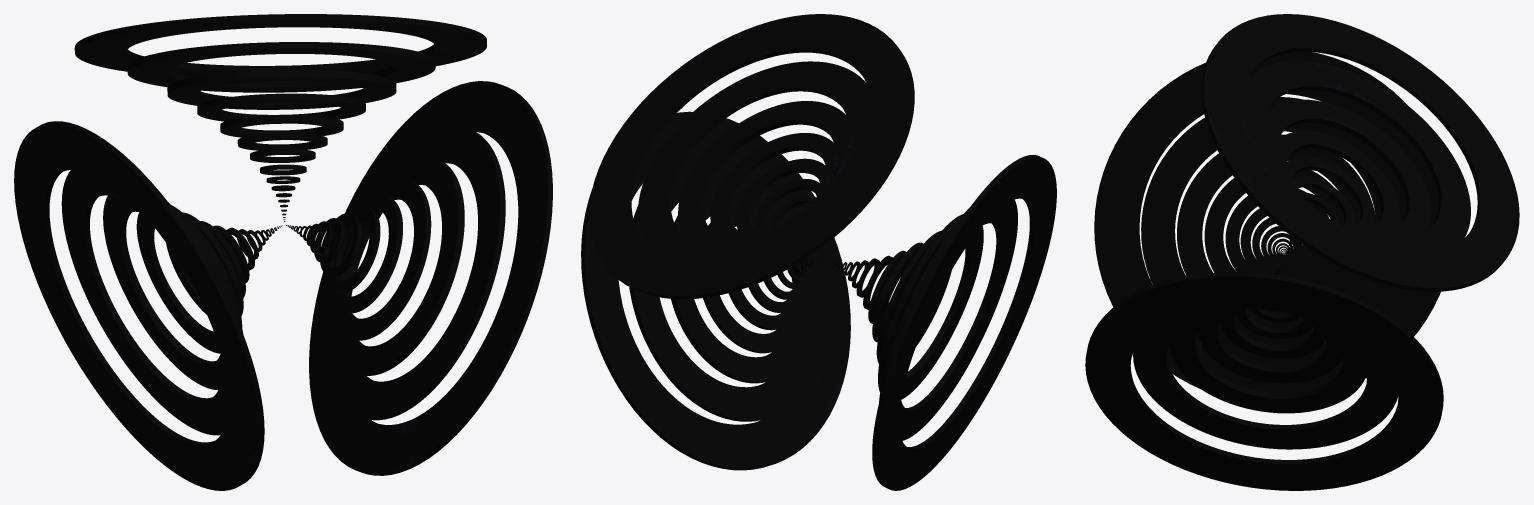
File: BAC.glb
3 views of the same model, side by side, from view 1: azimuth 30°, elevation 25°; view 2: azimuth 150°, elevation 25°; view 3: azimuth 270°, elevation 25° (orthographic). The views are drawn at different scales.
Visible parts, largest first — view 1: mesh_id3915, mesh_id3767, mesh_id3758, mesh_id2133, mesh_id3906, mesh_id3761, mesh_id765, mesh_id3909, mesh_id764, mesh_id3764, mesh_id3912, mesh_id3770 (+9 smaller); view 2: mesh_id2133, mesh_id3767, mesh_id3915, mesh_id765, mesh_id3758, mesh_id764, mesh_id3906, mesh_id3761, mesh_id3909, mesh_id766, mesh_id3764, mesh_id759 (+6 smaller); view 3: mesh_id2133, mesh_id3767, mesh_id3915, mesh_id765, mesh_id3758, mesh_id3906, mesh_id764, mesh_id3761, mesh_id3909, mesh_id766, mesh_id3764, mesh_id3912 (+8 smaller).
Boxes of the visible parts, x1,y1,x2,y2 form: mesh_id3915: [14, 121, 264, 490]; mesh_id3767: [309, 81, 552, 475]; mesh_id3758: [322, 124, 505, 420]; mesh_id2133: [74, 14, 486, 76]; mesh_id3906: [61, 169, 228, 435]; mesh_id3761: [326, 155, 464, 375]; mesh_id765: [127, 42, 435, 92]; mesh_id3909: [103, 195, 243, 389]; mesh_id764: [167, 69, 396, 109]; mesh_id3764: [328, 177, 431, 340]; mesh_id3912: [136, 205, 242, 353]; mesh_id3770: [326, 194, 402, 313]; mesh_id2133: [589, 14, 914, 299]; mesh_id3767: [581, 111, 850, 470]; mesh_id3915: [872, 154, 1056, 490]; mesh_id765: [638, 61, 871, 260]; mesh_id3758: [629, 154, 830, 421]; mesh_id764: [678, 101, 849, 245]; mesh_id3906: [879, 199, 1017, 440]; mesh_id3761: [671, 184, 818, 383]; mesh_id3909: [878, 214, 983, 399]; mesh_id766: [710, 133, 835, 237]; mesh_id3764: [703, 206, 810, 353]; mesh_id759: [735, 158, 826, 233]; mesh_id2133: [1201, 14, 1519, 291]; mesh_id3767: [1085, 272, 1443, 490]; mesh_id3915: [1094, 51, 1440, 393]; mesh_id765: [1243, 60, 1470, 254]; mesh_id3758: [1133, 303, 1398, 449]; mesh_id3906: [1141, 97, 1406, 362]; mesh_id764: [1264, 99, 1431, 239]; mesh_id3761: [1170, 309, 1366, 413]; mesh_id3909: [1177, 134, 1376, 329]; mesh_id766: [1278, 130, 1399, 232]; mesh_id3764: [1198, 311, 1342, 383]; mesh_id3912: [1204, 170, 1344, 287].
Bounding box in the file's own units: 1.48 × 1.61 × 1.49.
22 materials, 22 textured.
